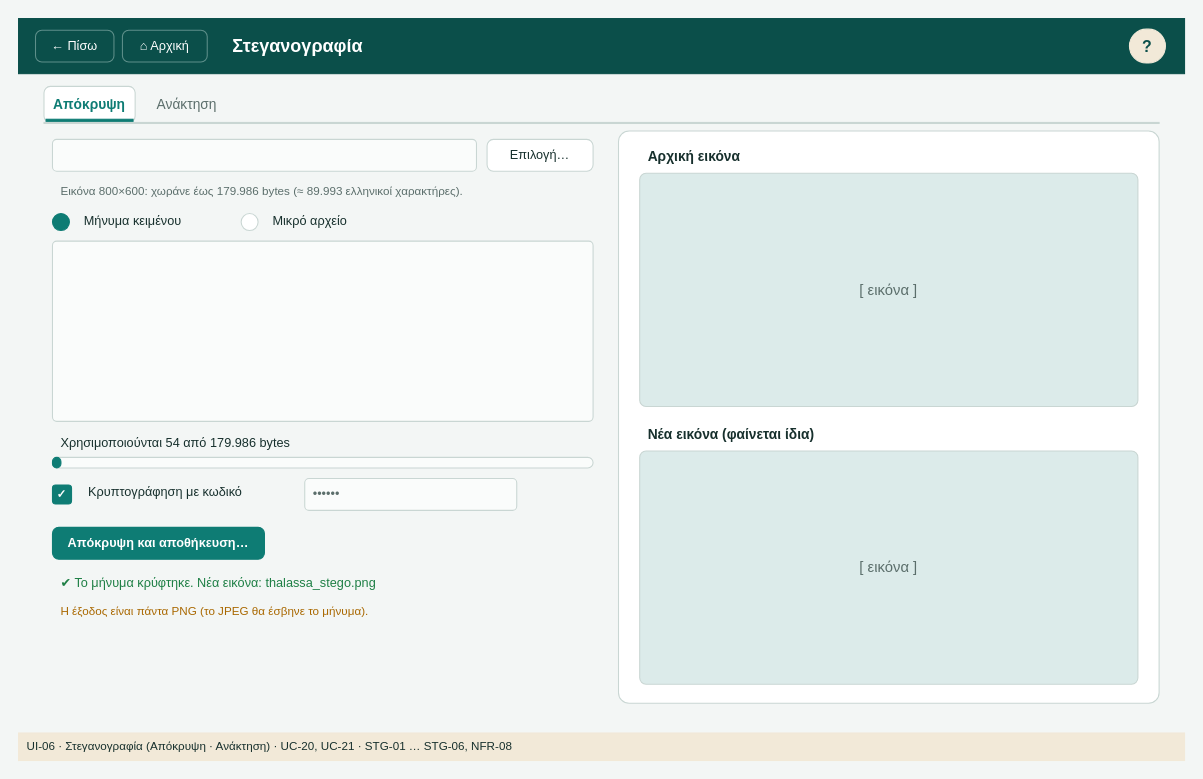
Some shapes in this 1203 by 779 pixel diagram are drawn without their labels. The shapes that lost their labels are listed below. From the top down, each one's box as (x1, y1, x2, y2) in pixels, then its label:
(51, 138, 476, 171): thalassa.png
(51, 240, 593, 421): Συνάντηση στις 8, στην πλατεία.
